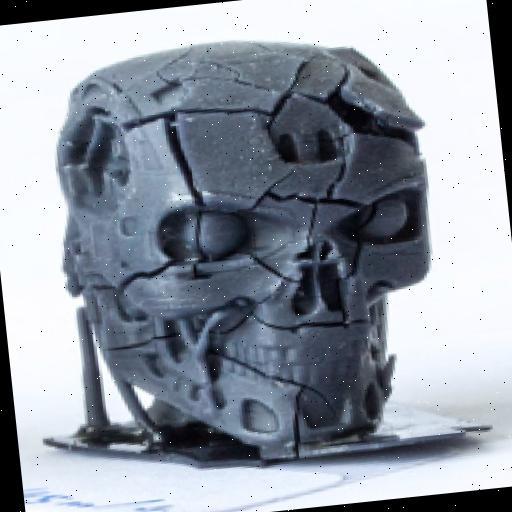cracks: (88, 288, 402, 378), (137, 84, 231, 222), (258, 383, 350, 492), (284, 174, 384, 266), (72, 250, 240, 304)
